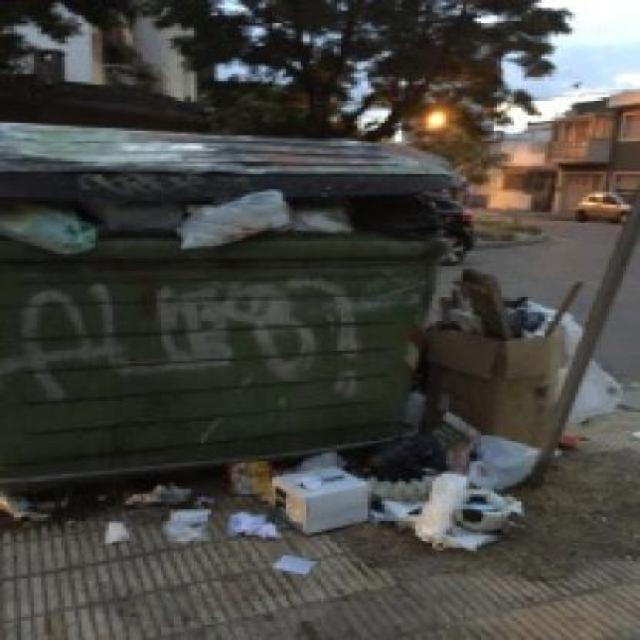garbage: (250, 420, 556, 576), (436, 265, 620, 470), (0, 192, 459, 240), (0, 482, 262, 544)
